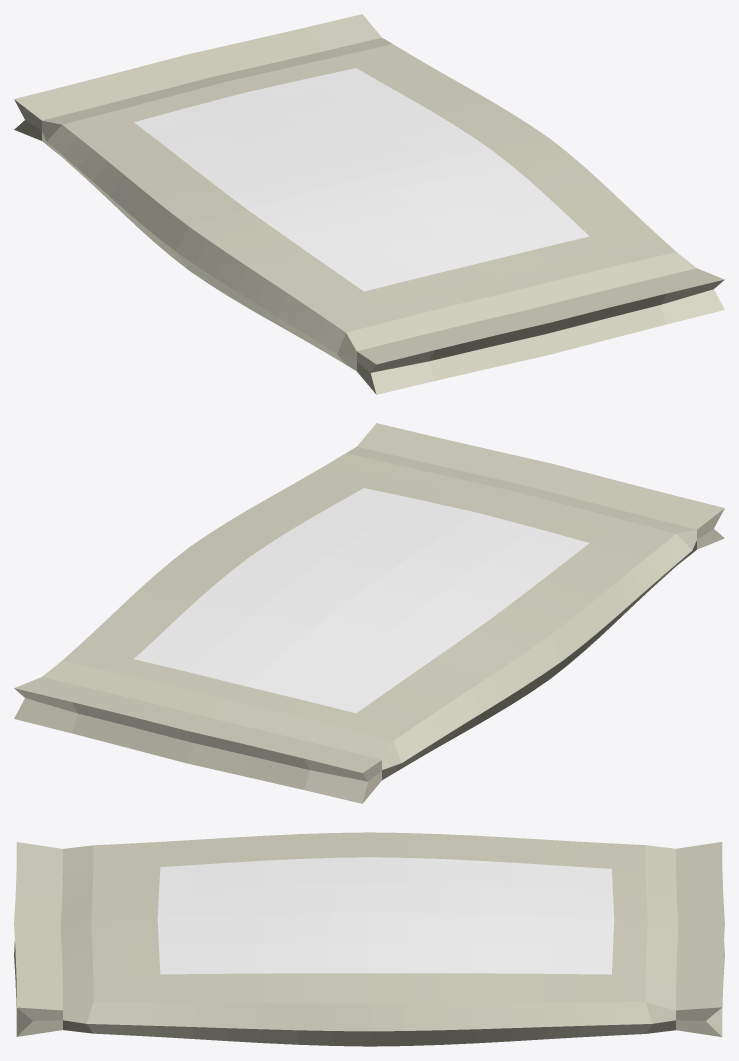
The model's file is seedPack.fbx.
3 renders of one model, top to bottom at view 1: azimuth 30°, elevation 25°; view 2: azimuth 150°, elevation 25°; view 3: azimuth 270°, elevation 25°, orthographic. The views are drawn at different scales.
Parts seen in each view (by area): view 1: Plane; view 2: Plane; view 3: Plane.
Part boxes in pixels (bbox=[...]): Plane: bbox=[14, 14, 724, 394]; Plane: bbox=[14, 423, 724, 803]; Plane: bbox=[14, 832, 724, 1046].
Size of the model in its own units: 219 by 30.42 by 358.
